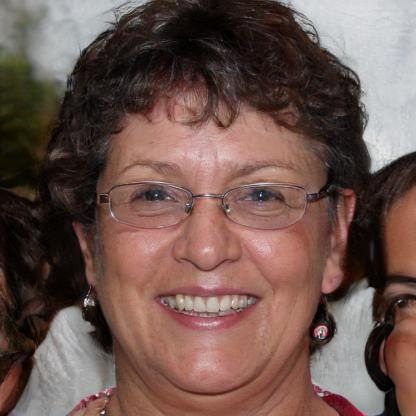glasses: (99, 176, 324, 231)
